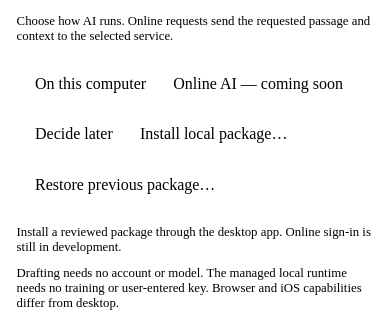
Test case: preserves the existing connection when the package is unavailable
Step 1. Click the button "On this computer" → click(91, 84), box [25,62,156,106]
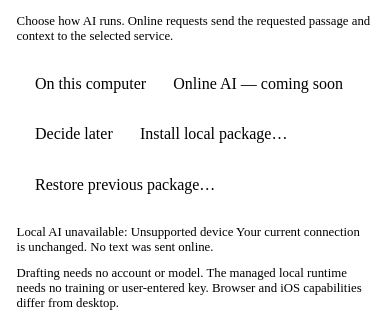
Expected: the button "Online AI — coming soon" is disabled, [163,62,353,106]
Expected: the text "No text was sent online" is shown, [17,225,360,254]
